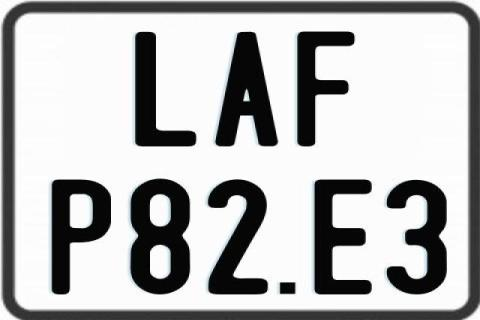0: (206, 177, 268, 296), (130, 177, 190, 293), (387, 180, 447, 296)
A: (215, 31, 278, 151)
E: (312, 177, 375, 297)
F: (296, 32, 354, 152)
L: (135, 32, 202, 150)
P: (49, 180, 113, 296)
